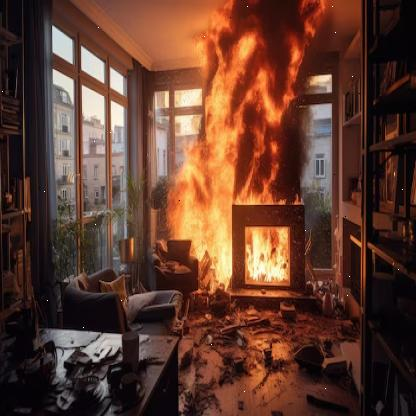fire: (164, 6, 243, 295), (245, 221, 289, 283)
smoke: (276, 23, 328, 192), (255, 1, 297, 88)
